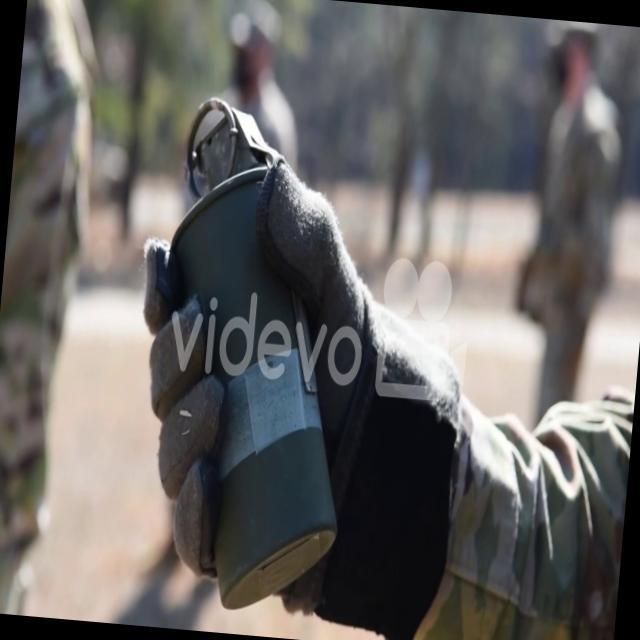grenade: (120, 85, 380, 616)
